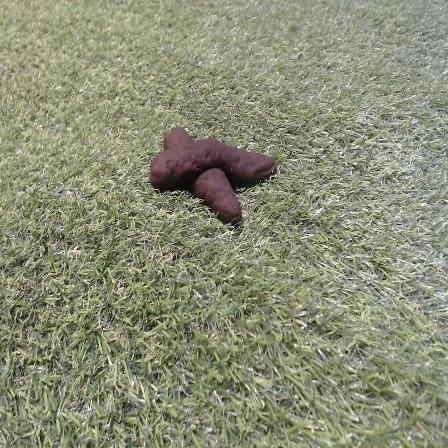dog-poop: (144, 118, 277, 226)
